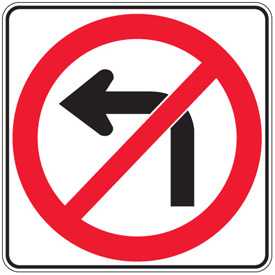No_left_turn: (13, 13, 263, 262)
